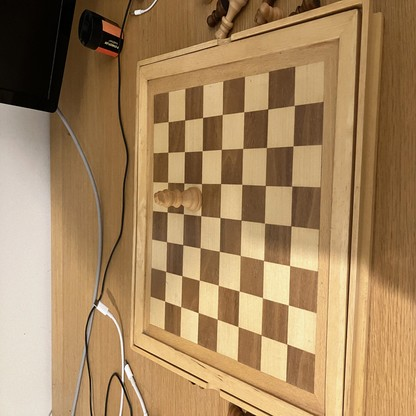king_white: (155, 187, 202, 211)
pawn_black: (207, 2, 227, 27)
